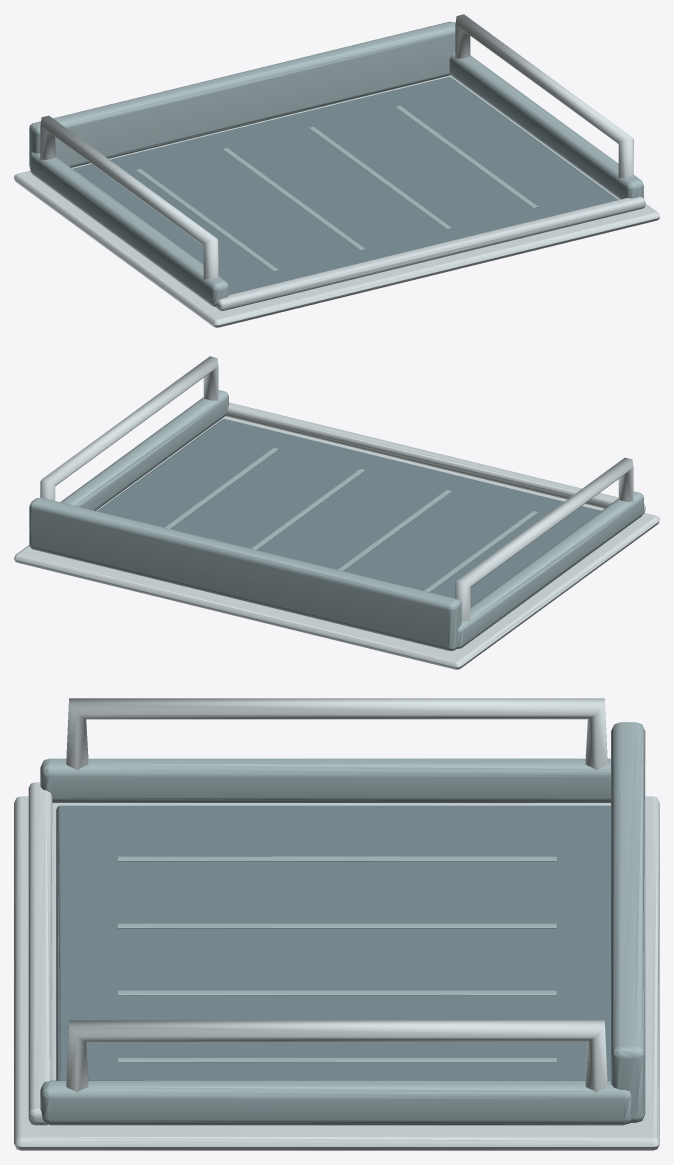
File: DishReturnRack.fbx
The picture shows the model from 3 angles, top to bottom: view 1: azimuth 30°, elevation 25°; view 2: azimuth 150°, elevation 25°; view 3: azimuth 270°, elevation 25°; orthographic projection. The views are drawn at different scales.
Visible parts, largest first — view 1: DishReturnRack; view 2: DishReturnRack; view 3: DishReturnRack.
Part boxes in pixels (box(x1,y1,x2,y2)): DishReturnRack: box(14, 14, 659, 327); DishReturnRack: box(14, 356, 659, 669); DishReturnRack: box(14, 698, 659, 1150).
Size of the model in its own units: 1.55 by 0.2459 by 1.22.
